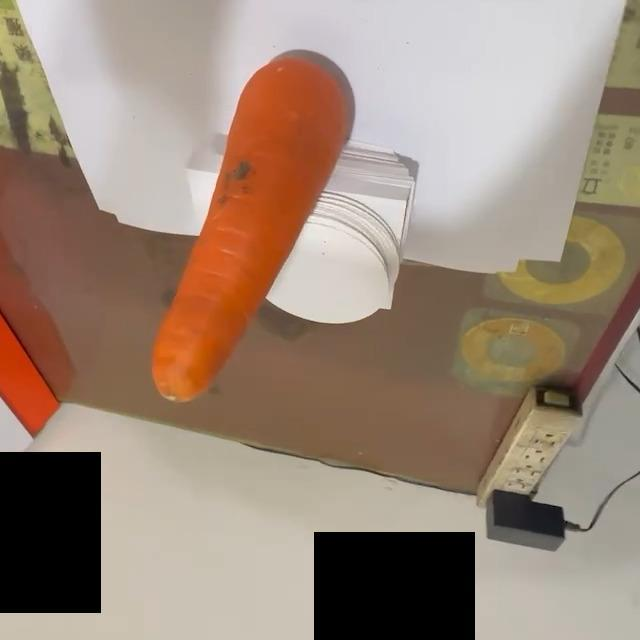carrot: (147, 57, 357, 407)
